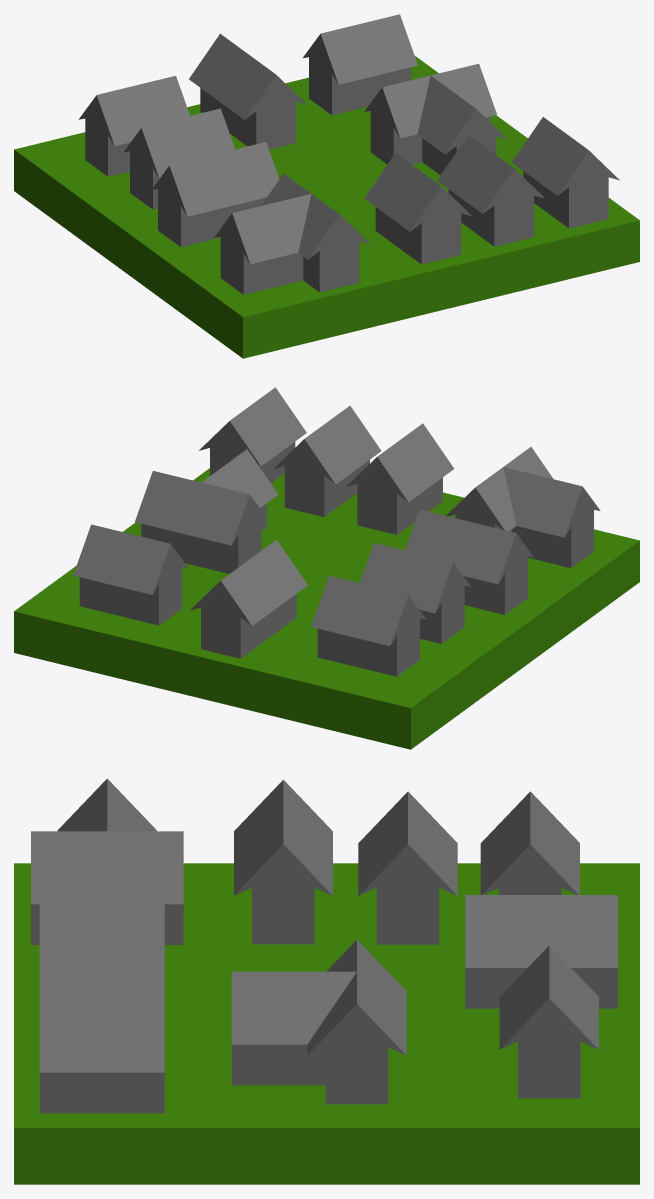
Rendered from House.obj.
3 renders of one model, top to bottom at view 1: azimuth 30°, elevation 25°; view 2: azimuth 150°, elevation 25°; view 3: azimuth 270°, elevation 25°, orthographic. The views are drawn at different scales.
Parts seen in each view (by area): view 1: Tilebase100, Box604, Box599, Box598, Box603, Box606, Box608, Box607, Box609, Box600, Box602, Box605 (+1 smaller); view 2: Tilebase100, Box600, Box609, Box599, Box598, Box604, Box603, Box607, Box606, Box602, Box608, Box605 (+1 smaller); view 3: Tilebase100, Box608, Box598, Box605, Box604, Box601, Box602, Box599, Box600, Box609, Box607, Box603 (+1 smaller).
Boxes of the visible parts, bbox=[...] form: Tilebase100: bbox=[14, 56, 639, 358]; Box604: bbox=[151, 142, 279, 247]; Box599: bbox=[303, 14, 417, 115]; Box598: bbox=[189, 33, 306, 149]; Box603: bbox=[364, 153, 471, 264]; Box606: bbox=[214, 194, 311, 294]; Box608: bbox=[511, 117, 619, 228]; Box607: bbox=[437, 135, 544, 246]; Box609: bbox=[79, 75, 189, 176]; Box600: bbox=[364, 63, 496, 164]; Box602: bbox=[124, 108, 234, 209]; Box605: bbox=[261, 173, 370, 292]; Tilebase100: bbox=[14, 468, 639, 749]; Box600: bbox=[135, 471, 267, 573]; Box609: bbox=[311, 575, 426, 676]; Box599: bbox=[73, 524, 188, 625]; Box598: bbox=[190, 539, 307, 658]; Box604: bbox=[405, 509, 534, 614]; Box603: bbox=[346, 423, 454, 534]; Box607: bbox=[273, 405, 381, 516]; Box606: bbox=[503, 467, 600, 567]; Box602: bbox=[359, 543, 470, 643]; Box608: bbox=[199, 387, 306, 482]; Box605: bbox=[446, 447, 553, 531]; Tilebase100: bbox=[14, 863, 639, 1184]; Box608: bbox=[39, 999, 164, 1113]; Box598: bbox=[465, 895, 617, 1008]; Box605: bbox=[31, 831, 183, 944]; Box604: bbox=[234, 780, 332, 944]; Box601: bbox=[231, 971, 356, 1085]; Box602: bbox=[358, 791, 457, 944]; Box599: bbox=[499, 945, 598, 1098]; Box600: bbox=[307, 939, 406, 1104]; Box609: bbox=[480, 791, 579, 894]; Box607: bbox=[39, 950, 164, 999]; Box603: bbox=[39, 901, 164, 949].
Size of the model in its own units: 10 by 2.77 by 10.
